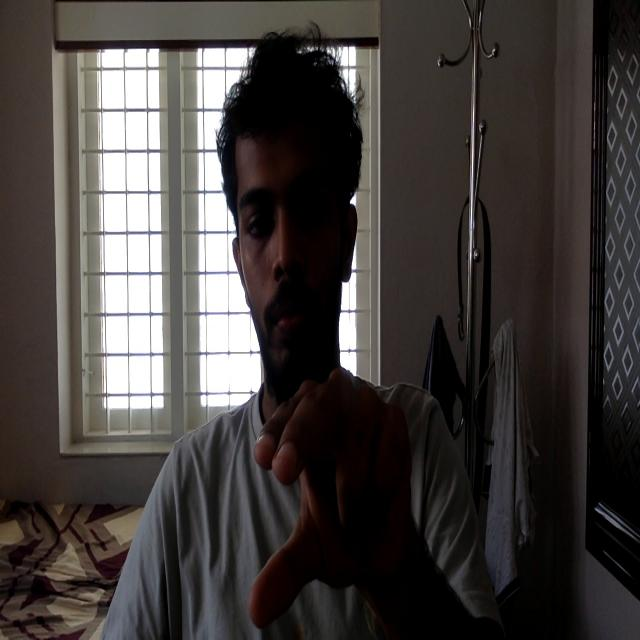No: (233, 345, 441, 640)
